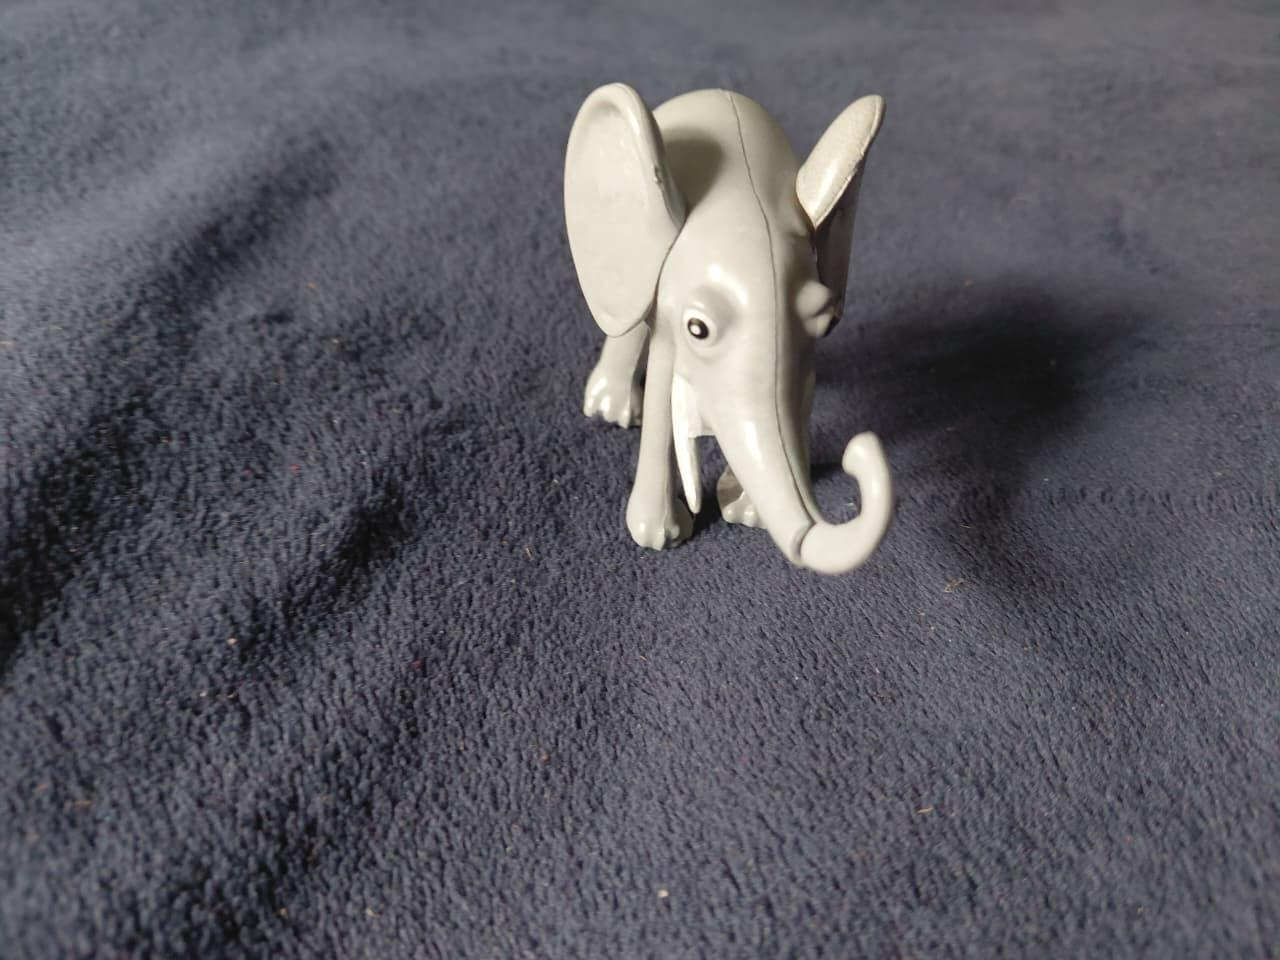elephant: (548, 42, 902, 602)
